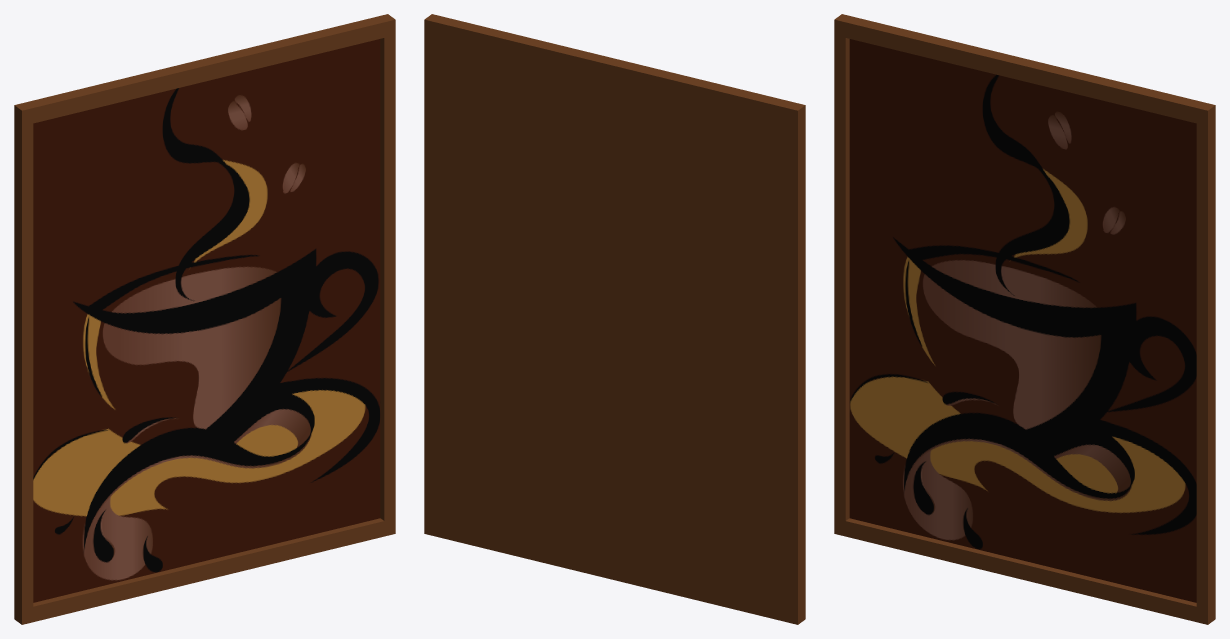
The model's file is Picture_frame_2.fbx.
3 renders of one model, left to right at view 1: azimuth 30°, elevation 25°; view 2: azimuth 150°, elevation 25°; view 3: azimuth 330°, elevation 25°, orthographic.
Visible parts, largest first — view 1: Picture_frame_2; view 2: Picture_frame_2; view 3: Picture_frame_2.
Part boxes in pixels (x1,y1,x2,y2): Picture_frame_2: [14, 14, 395, 624]; Picture_frame_2: [424, 14, 805, 624]; Picture_frame_2: [834, 14, 1215, 624].
Bounding box in the file's own units: 38.8 × 51.03 × 1.38.
